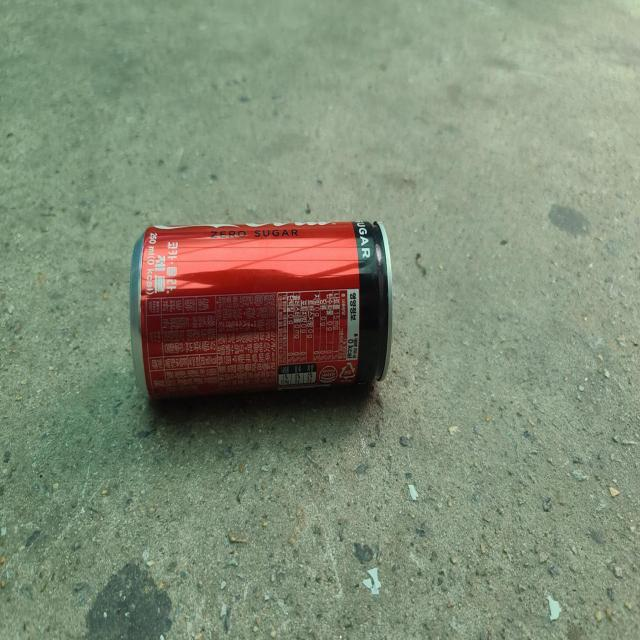can: (129, 220, 393, 398)
